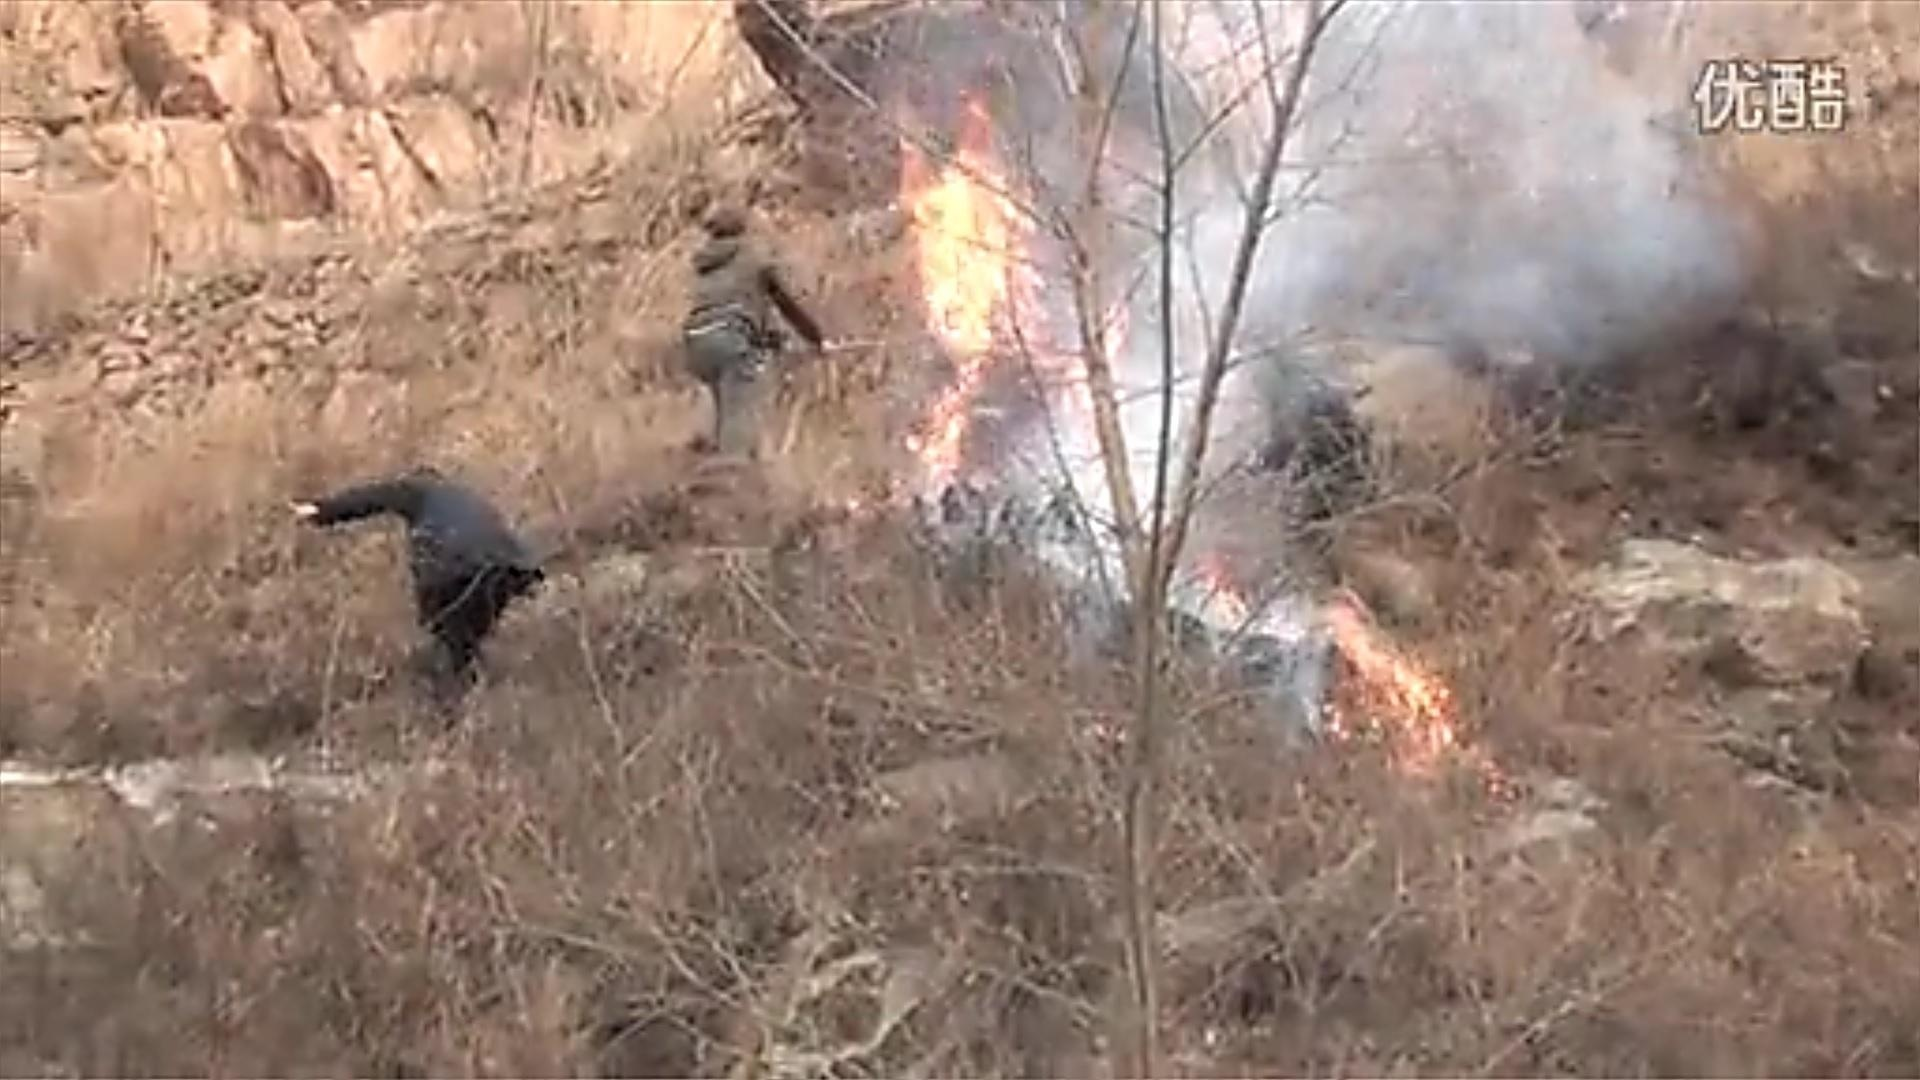fire: (901, 102, 1112, 447), (1225, 574, 1469, 767)
